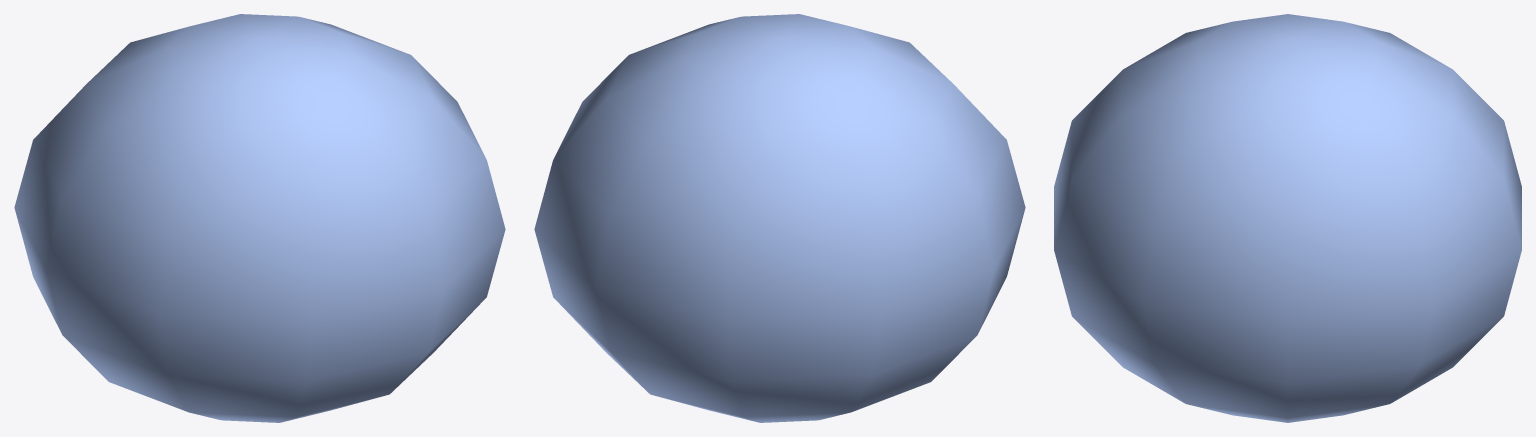
File: gemling_stage2.obj
3 renders of one model, left to right at view 1: azimuth 30°, elevation 25°; view 2: azimuth 150°, elevation 25°; view 3: azimuth 270°, elevation 25°, orthographic.
Size of the model in its own units: 2 by 1.6 by 1.9.
